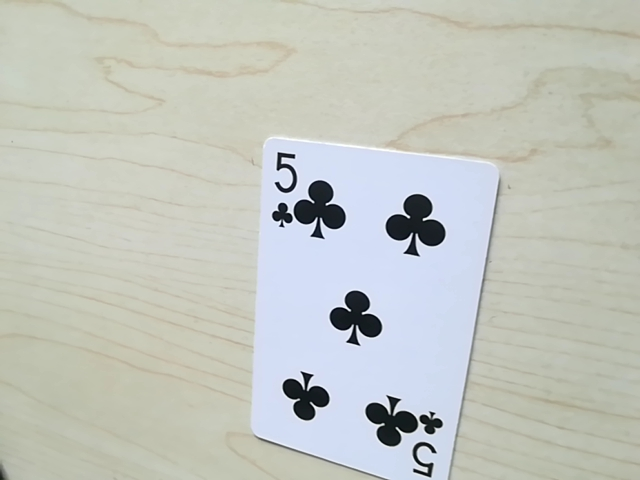mh 5: (263, 144, 312, 230), (402, 408, 447, 480)
